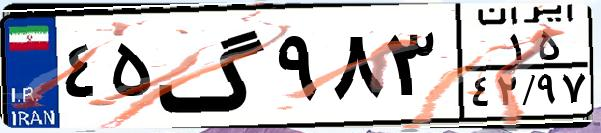1: (508, 27, 537, 80)
2: (495, 70, 520, 125)
3: (385, 28, 445, 110)
4: (57, 26, 110, 100), (470, 70, 495, 125)
5: (110, 28, 156, 98), (537, 27, 568, 80)
7: (560, 70, 590, 125)
8: (330, 28, 385, 110)
9: (270, 28, 330, 110), (535, 70, 560, 125)
گ: (156, 12, 270, 120)
